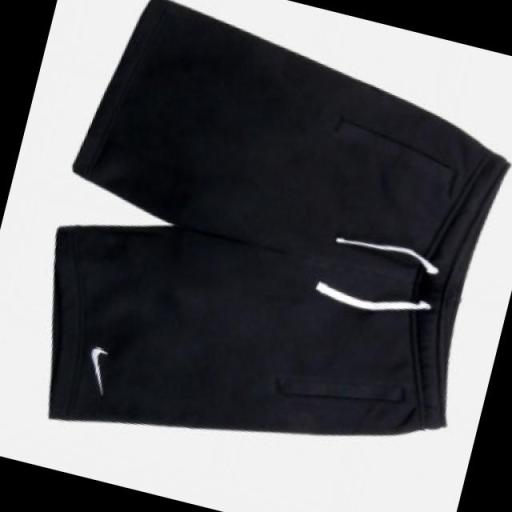Nike: (78, 338, 118, 396)
